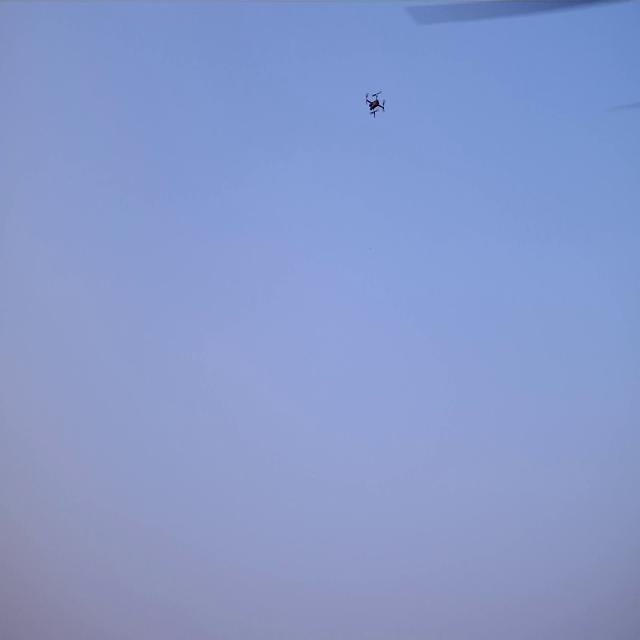UAV: (366, 93, 384, 117)
